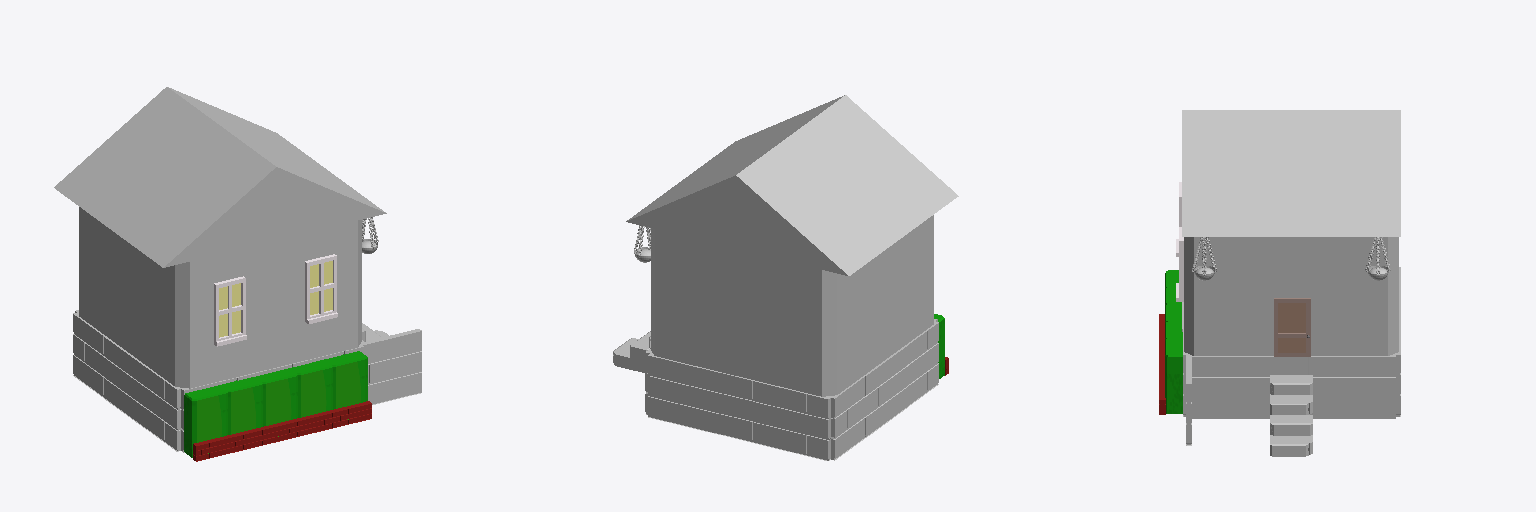
3 views of the same model, side by side, from view 1: azimuth 30°, elevation 25°; view 2: azimuth 150°, elevation 25°; view 3: azimuth 270°, elevation 25° (orthographic).
Parts seen in each view (by area): view 1: Cube.022; view 2: Cube.022; view 3: Cube.022.
Part boxes in pixels (x1,y1,x2,y2): Cube.022: (54, 87, 421, 461); Cube.022: (613, 95, 958, 460); Cube.022: (1159, 110, 1400, 456).
Size of the model in its own units: 15.22 by 13.54 by 11.26.
Materials: 27 (3 with a texture image).